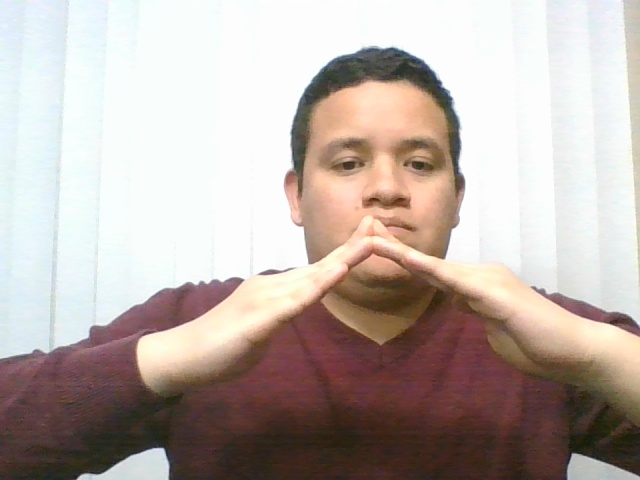House: (139, 203, 605, 432)
